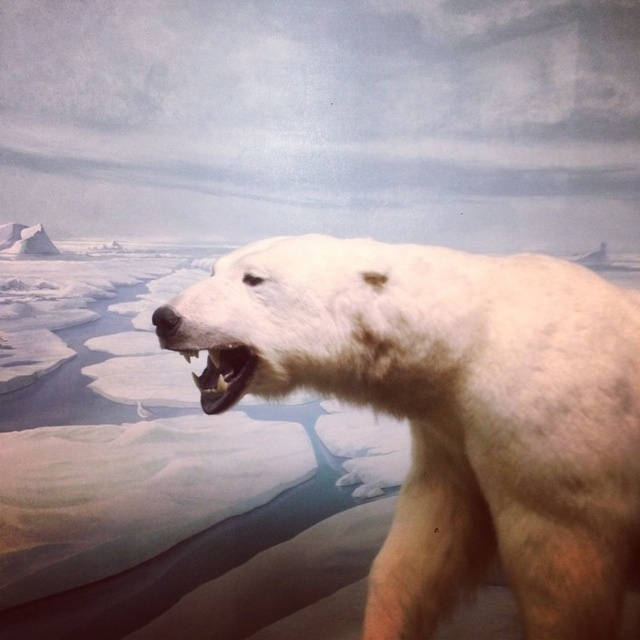Polar bear: (152, 233, 640, 640)
